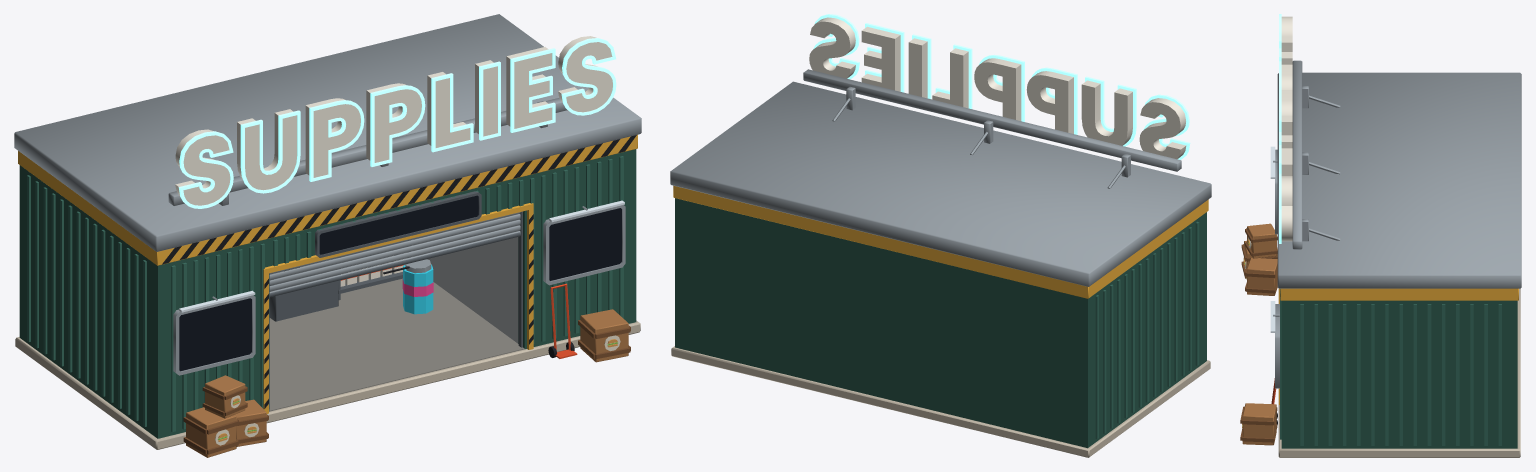
File: Lobby_SupplyShop.fbx
The picture shows the model from 3 angles, left to right: view 1: azimuth 30°, elevation 25°; view 2: azimuth 150°, elevation 25°; view 3: azimuth 270°, elevation 25°; orthographic projection. The views are drawn at different scales.
Visible parts, largest first — view 1: Steel, Facade, Ribs, DepotFloor, Letters, LetterNeon, HazardYellow, SteelDark, DepotWalls, Stone, Crates, Label2 (+7 smaller); view 2: Facade, Steel, Letters, Ribs, HazardYellow, Stone, LetterNeon; view 3: Steel, Facade, Ribs, HazardYellow, Stone, Crates, Letters, CrateSlats, LetterNeon, Tubes.001.
Boxes of the visible parts, <box> form: Steel: <box>14,14,641,375</box>; Facade: <box>19,149,636,438</box>; Ribs: <box>27,156,623,431</box>; DepotFloor: <box>269,278,524,411</box>; Letters: <box>175,36,612,205</box>; LetterNeon: <box>178,38,616,208</box>; HazardYellow: <box>18,134,637,413</box>; SteelDark: <box>269,191,522,408</box>; DepotWalls: <box>341,216,518,343</box>; Stone: <box>15,320,640,449</box>; Crates: <box>186,309,628,457</box>; Label2: <box>549,208,621,280</box>; Facade: <box>675,198,1206,448</box>; Steel: <box>670,69,1211,286</box>; Letters: <box>809,17,1186,159</box>; Ribs: <box>1095,221,1199,439</box>; HazardYellow: <box>673,185,1208,298</box>; Stone: <box>671,346,1210,457</box>; LetterNeon: <box>813,14,1190,159</box>; Steel: <box>1273,60,1521,388</box>; Facade: <box>1281,300,1517,448</box>; Ribs: <box>1280,289,1501,445</box>; HazardYellow: <box>1278,288,1518,404</box>; Stone: <box>1278,288,1520,457</box>; Crates: <box>1242,223,1277,445</box>; Letters: <box>1281,16,1292,241</box>; CrateSlats: <box>1240,228,1277,442</box>; LetterNeon: <box>1279,14,1281,243</box>; Tubes.001: <box>1270,146,1275,332</box>.
Bounding box in the file's own units: 3050 × 1828 × 1787.
